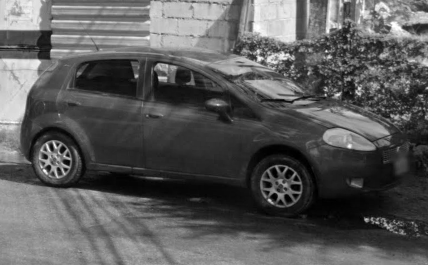car: (18, 48, 414, 215)
